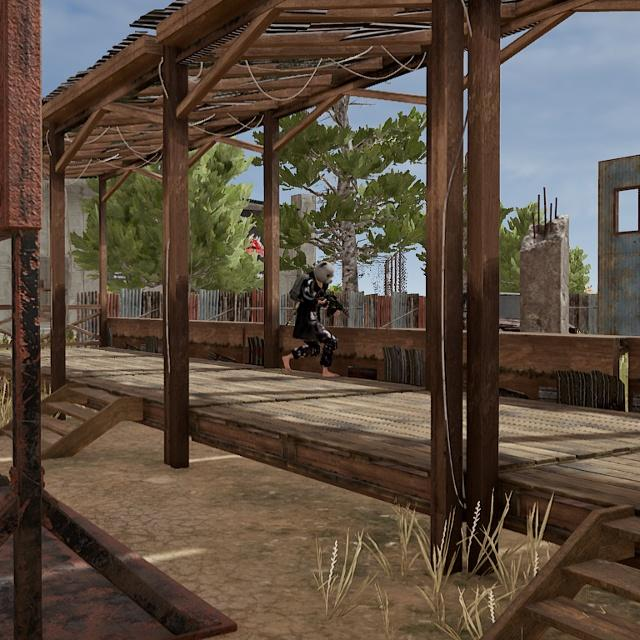head: (312, 259, 336, 285)
people: (280, 258, 342, 379)
